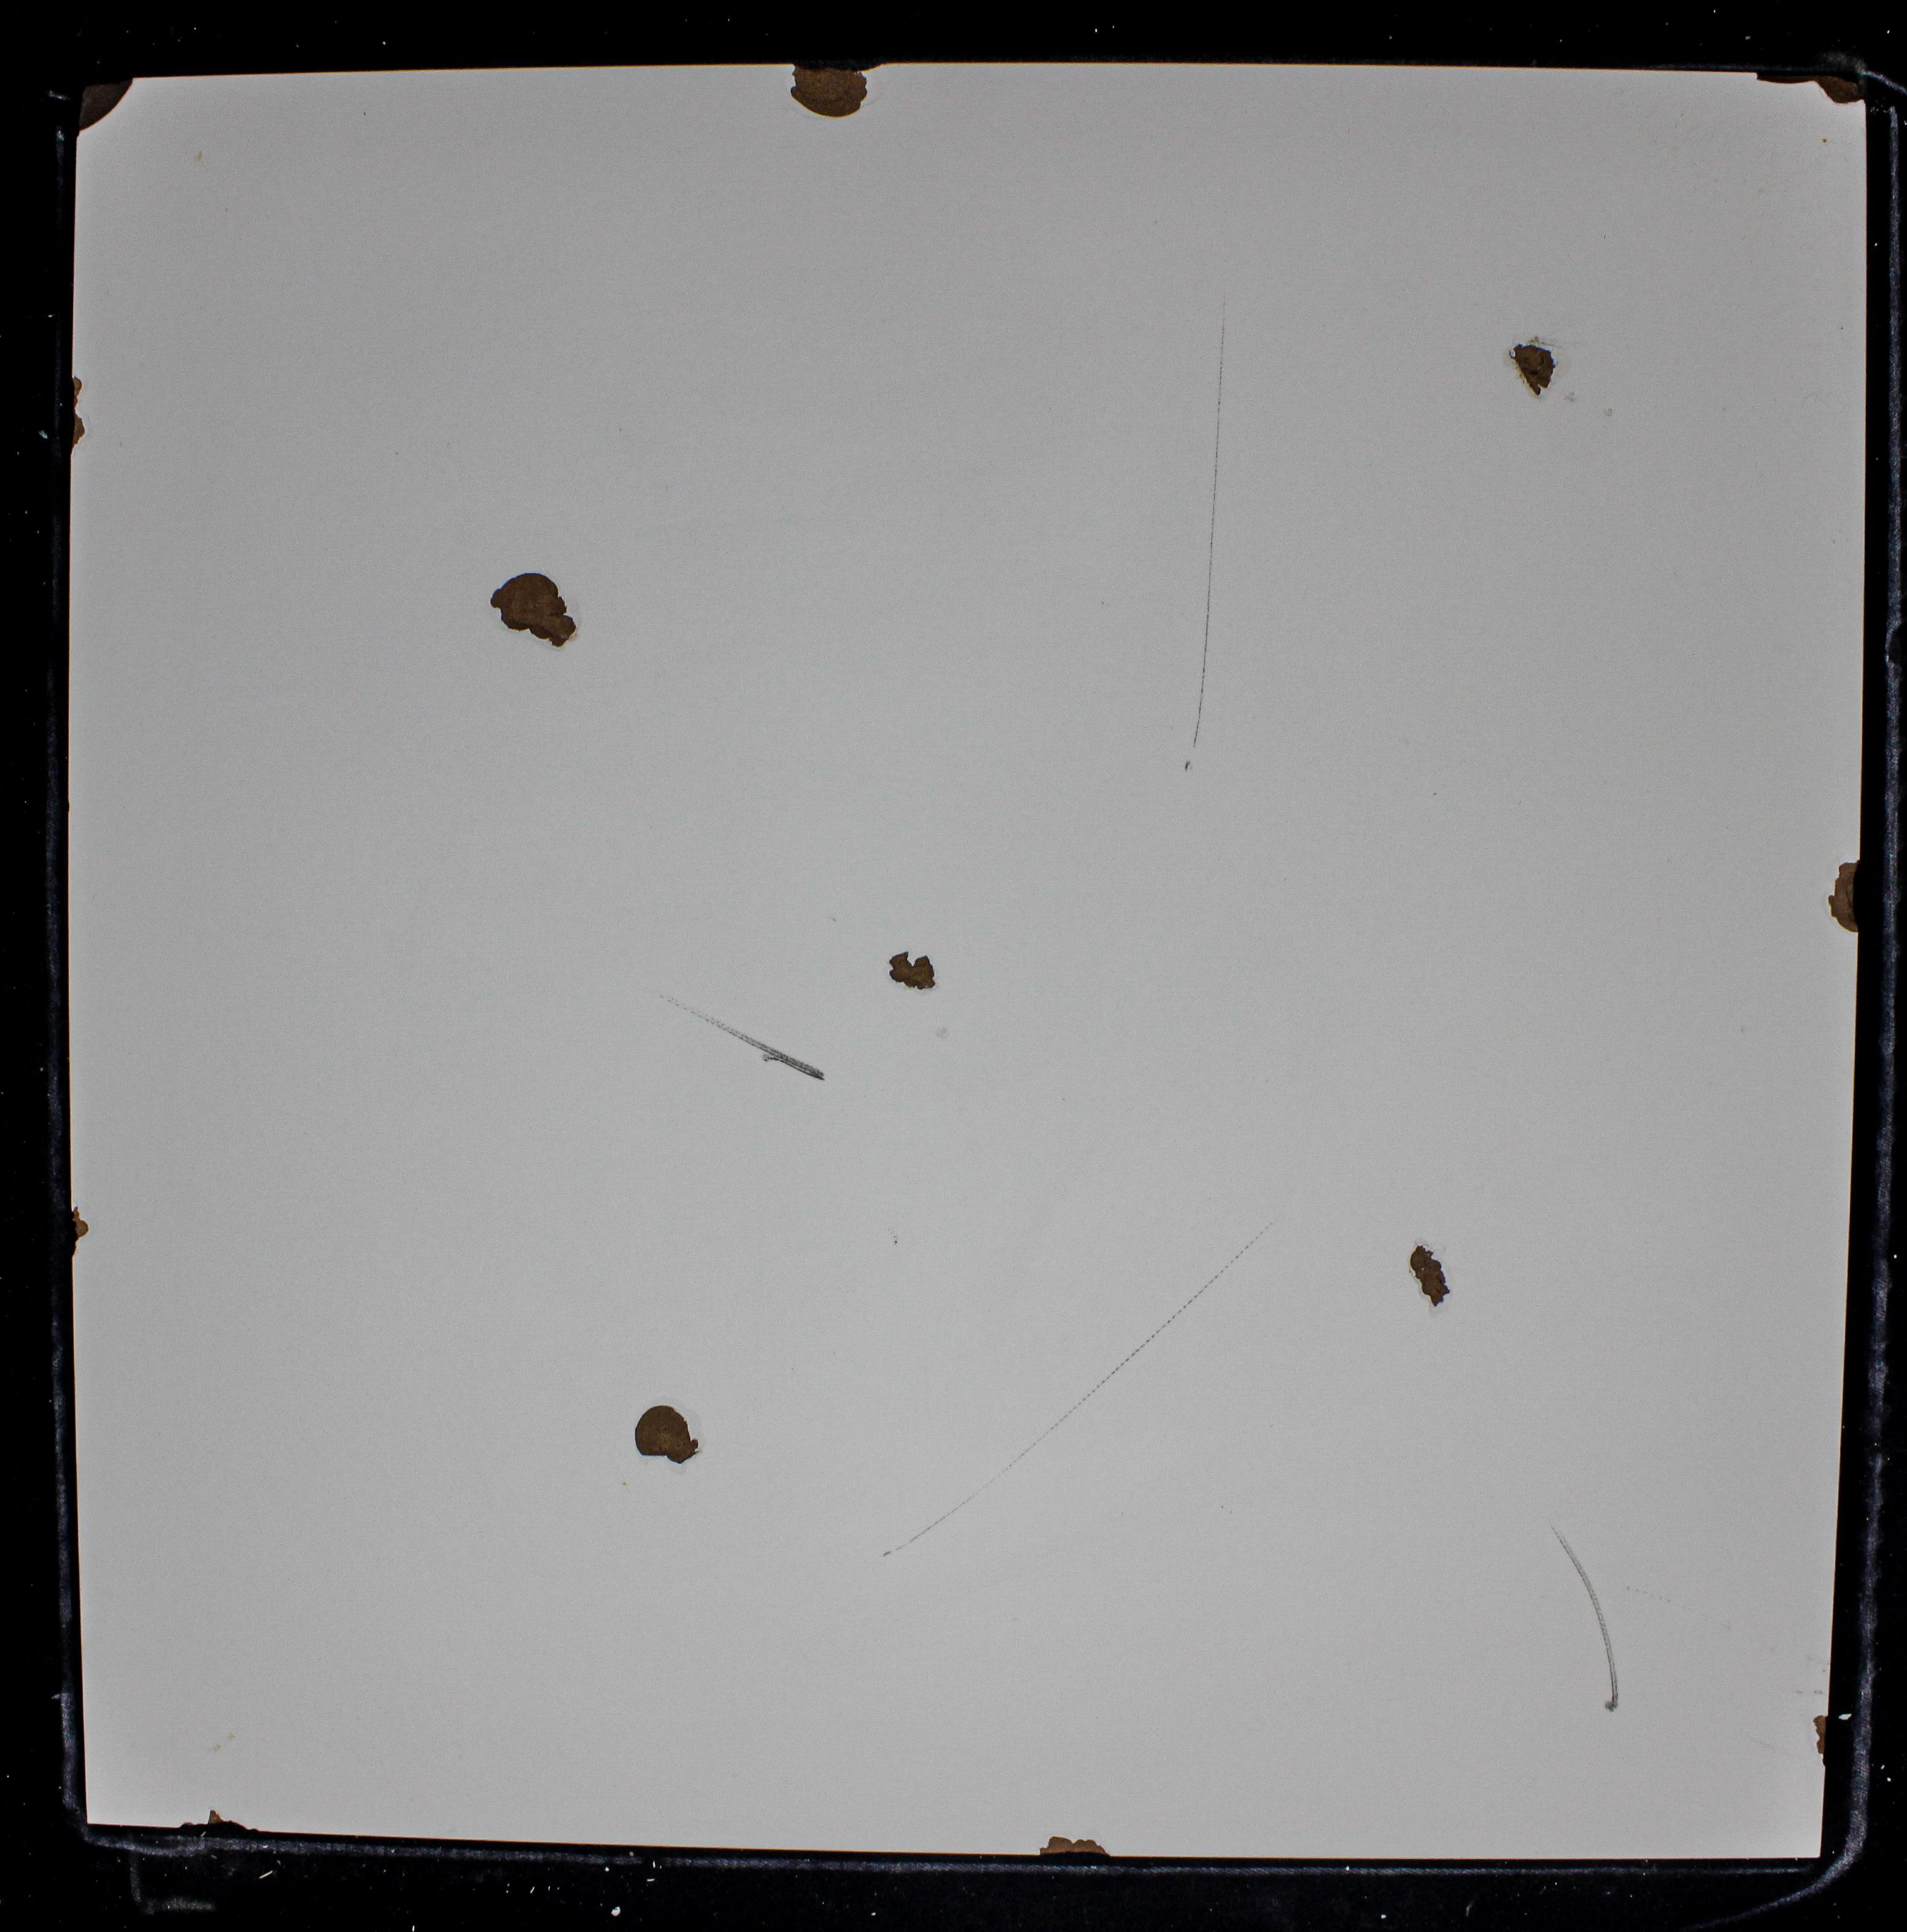edge-chipping: (789, 63, 884, 119), (1757, 72, 1865, 105), (77, 79, 134, 138), (1827, 859, 1860, 935), (1039, 1836, 1111, 1855), (208, 1810, 258, 1832), (72, 377, 86, 456), (70, 1205, 89, 1258), (1813, 1715, 1827, 1770), (176, 1822, 206, 1829)
hole: (492, 569, 582, 650), (634, 1403, 702, 1462), (1511, 342, 1559, 397), (1409, 1245, 1451, 1308), (889, 950, 936, 992)
line: (878, 1392, 1097, 1555), (1095, 1225, 1273, 1387), (1188, 290, 1231, 749), (1558, 1532, 1621, 1714), (699, 1013, 830, 1087)
